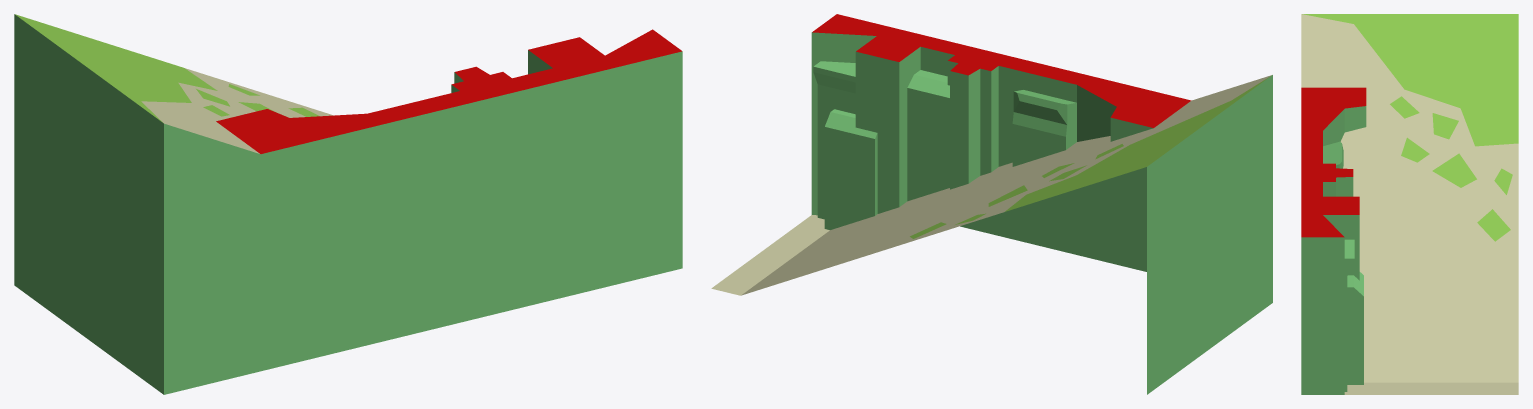
File: x_oo_ground_22_1_rmstrd.fbx
The picture shows the model from 3 angles, left to right: view 1: azimuth 30°, elevation 25°; view 2: azimuth 150°, elevation 25°; view 3: azimuth 270°, elevation 25°; orthographic projection. The views are drawn at different scales.
Visible parts, largest first — view 1: x_oo_ground_22_1_rmstrd1; view 2: x_oo_ground_22_1_rmstrd1; view 3: x_oo_ground_22_1_rmstrd1.
Boxes of the visible parts, <box> form: x_oo_ground_22_1_rmstrd1: <box>14,14,682,394</box>; x_oo_ground_22_1_rmstrd1: <box>711,14,1272,394</box>; x_oo_ground_22_1_rmstrd1: <box>1301,14,1518,394</box>.
Bounding box in the file's own units: 10 × 5 × 5.
